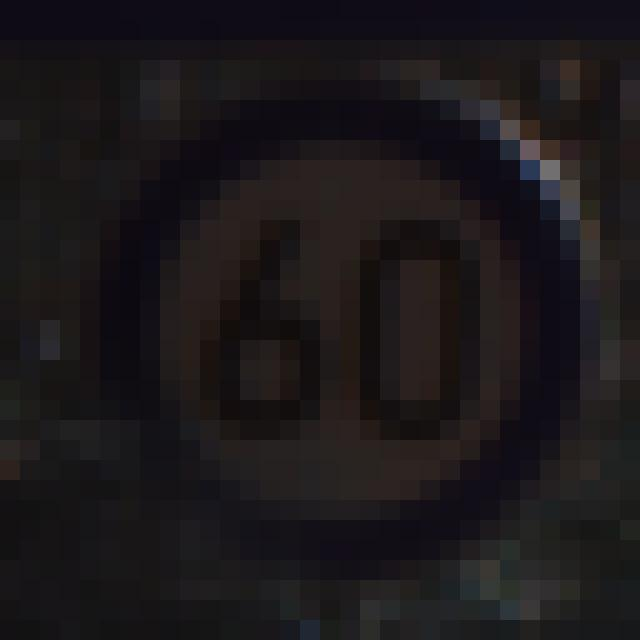SPEED-LIMIT-60: (100, 53, 608, 592)
